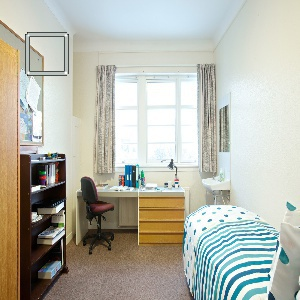square: (22, 30, 71, 77)
